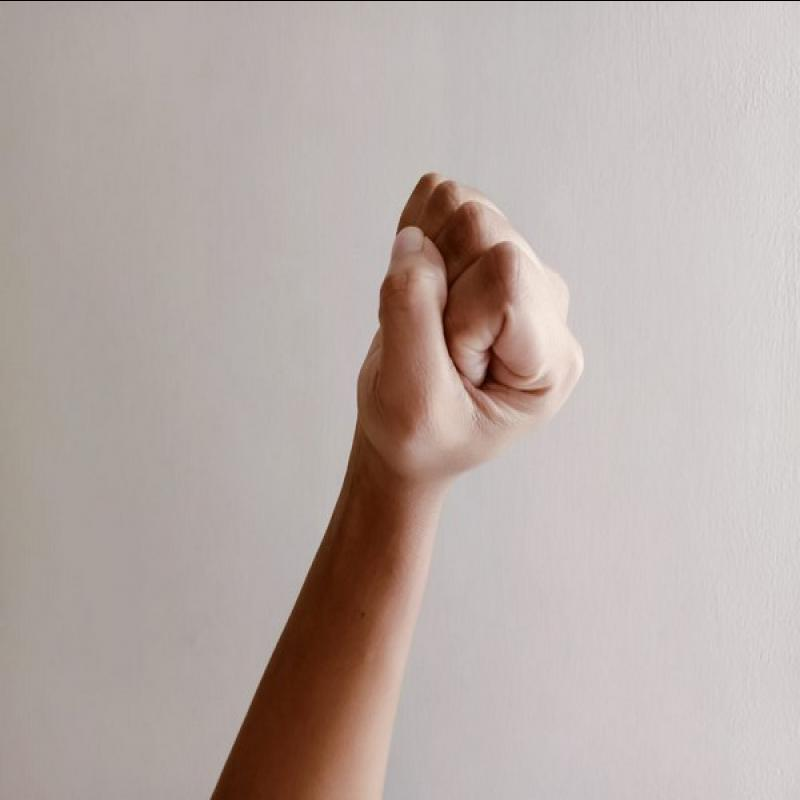Mushti: (336, 158, 595, 496)
